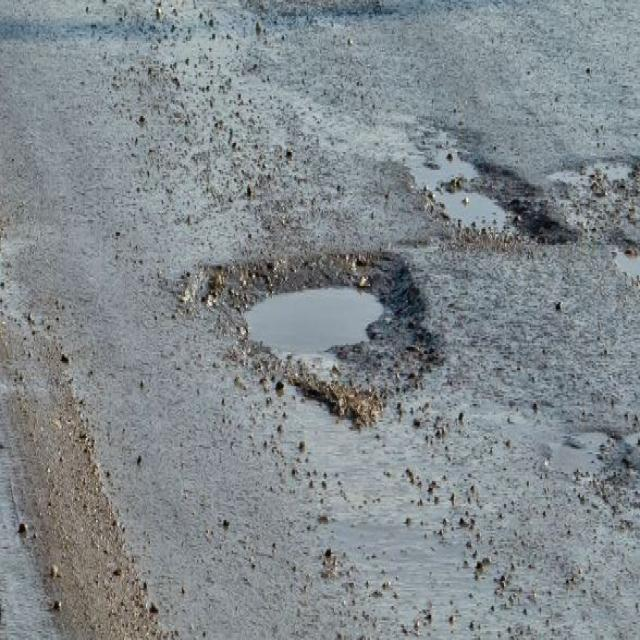pothole: (214, 250, 436, 427), (429, 178, 562, 241)
